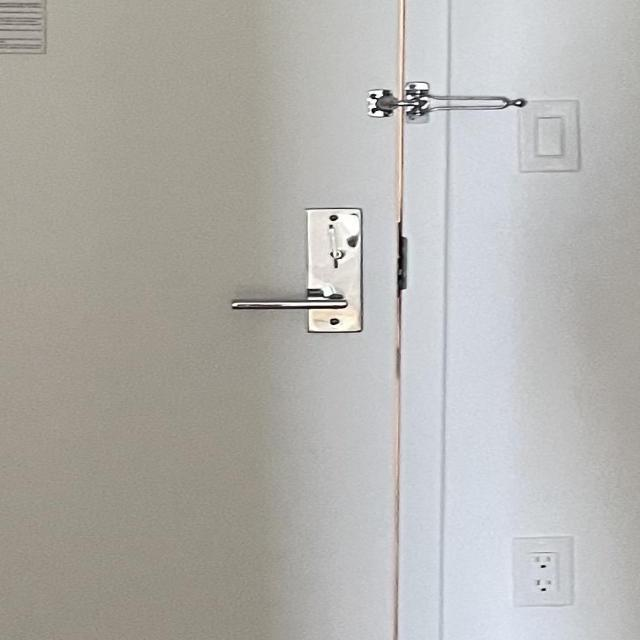door_handle: (221, 278, 370, 327)
